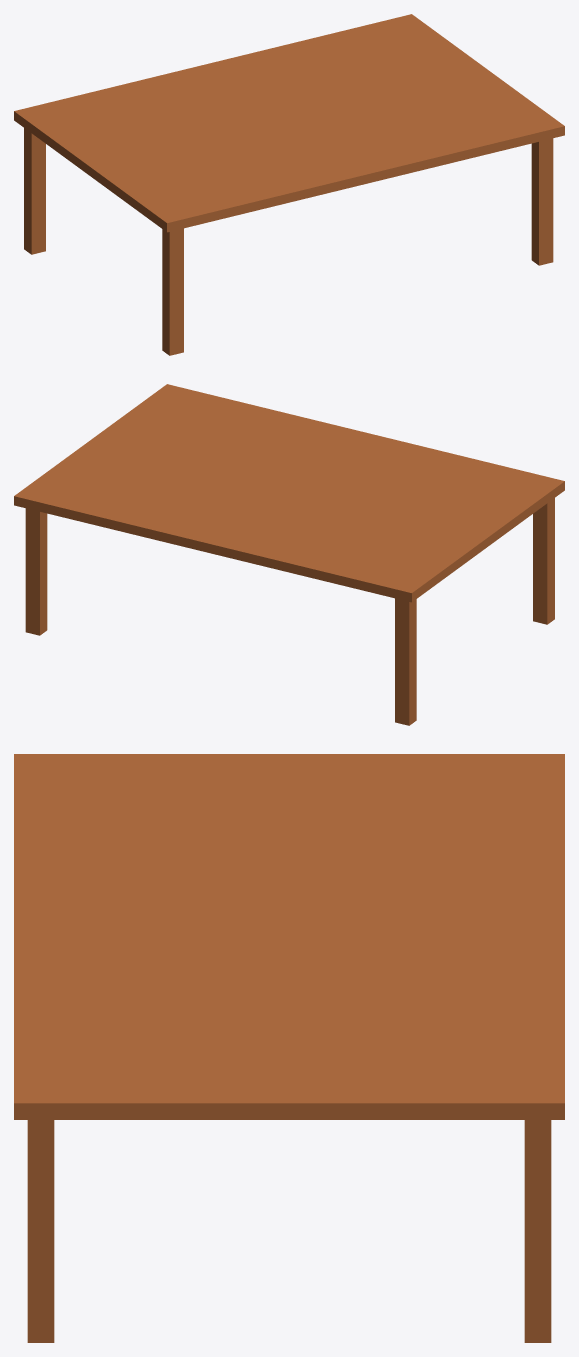
File: Table_gamejam.fbx
The picture shows the model from 3 angles, top to bottom: view 1: azimuth 30°, elevation 25°; view 2: azimuth 150°, elevation 25°; view 3: azimuth 270°, elevation 25°; orthographic projection. The views are drawn at different scales.
Parts seen in each view (by area): view 1: Plane.001; view 2: Plane.001; view 3: Plane.001.
Part boxes in pixels (x1,y1,x2,y2): Plane.001: [14, 14, 564, 355]; Plane.001: [14, 384, 564, 725]; Plane.001: [14, 754, 564, 1342].
Size of the model in its own units: 225 by 74.02 by 150.
